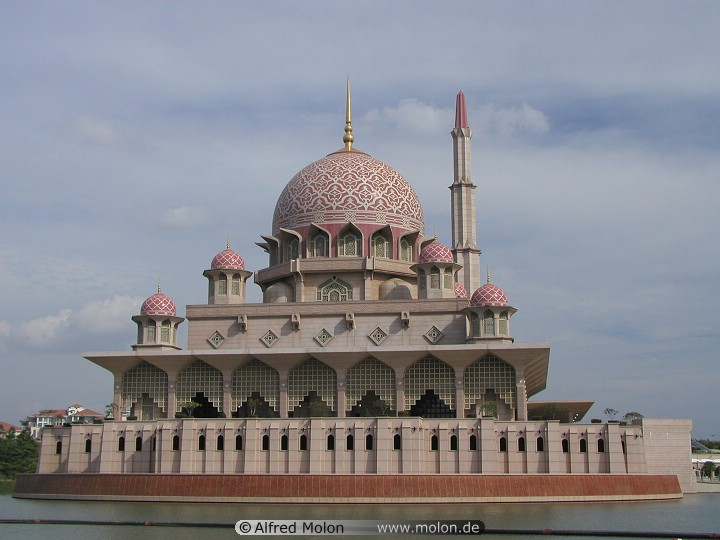Mosque: (68, 88, 708, 500)
